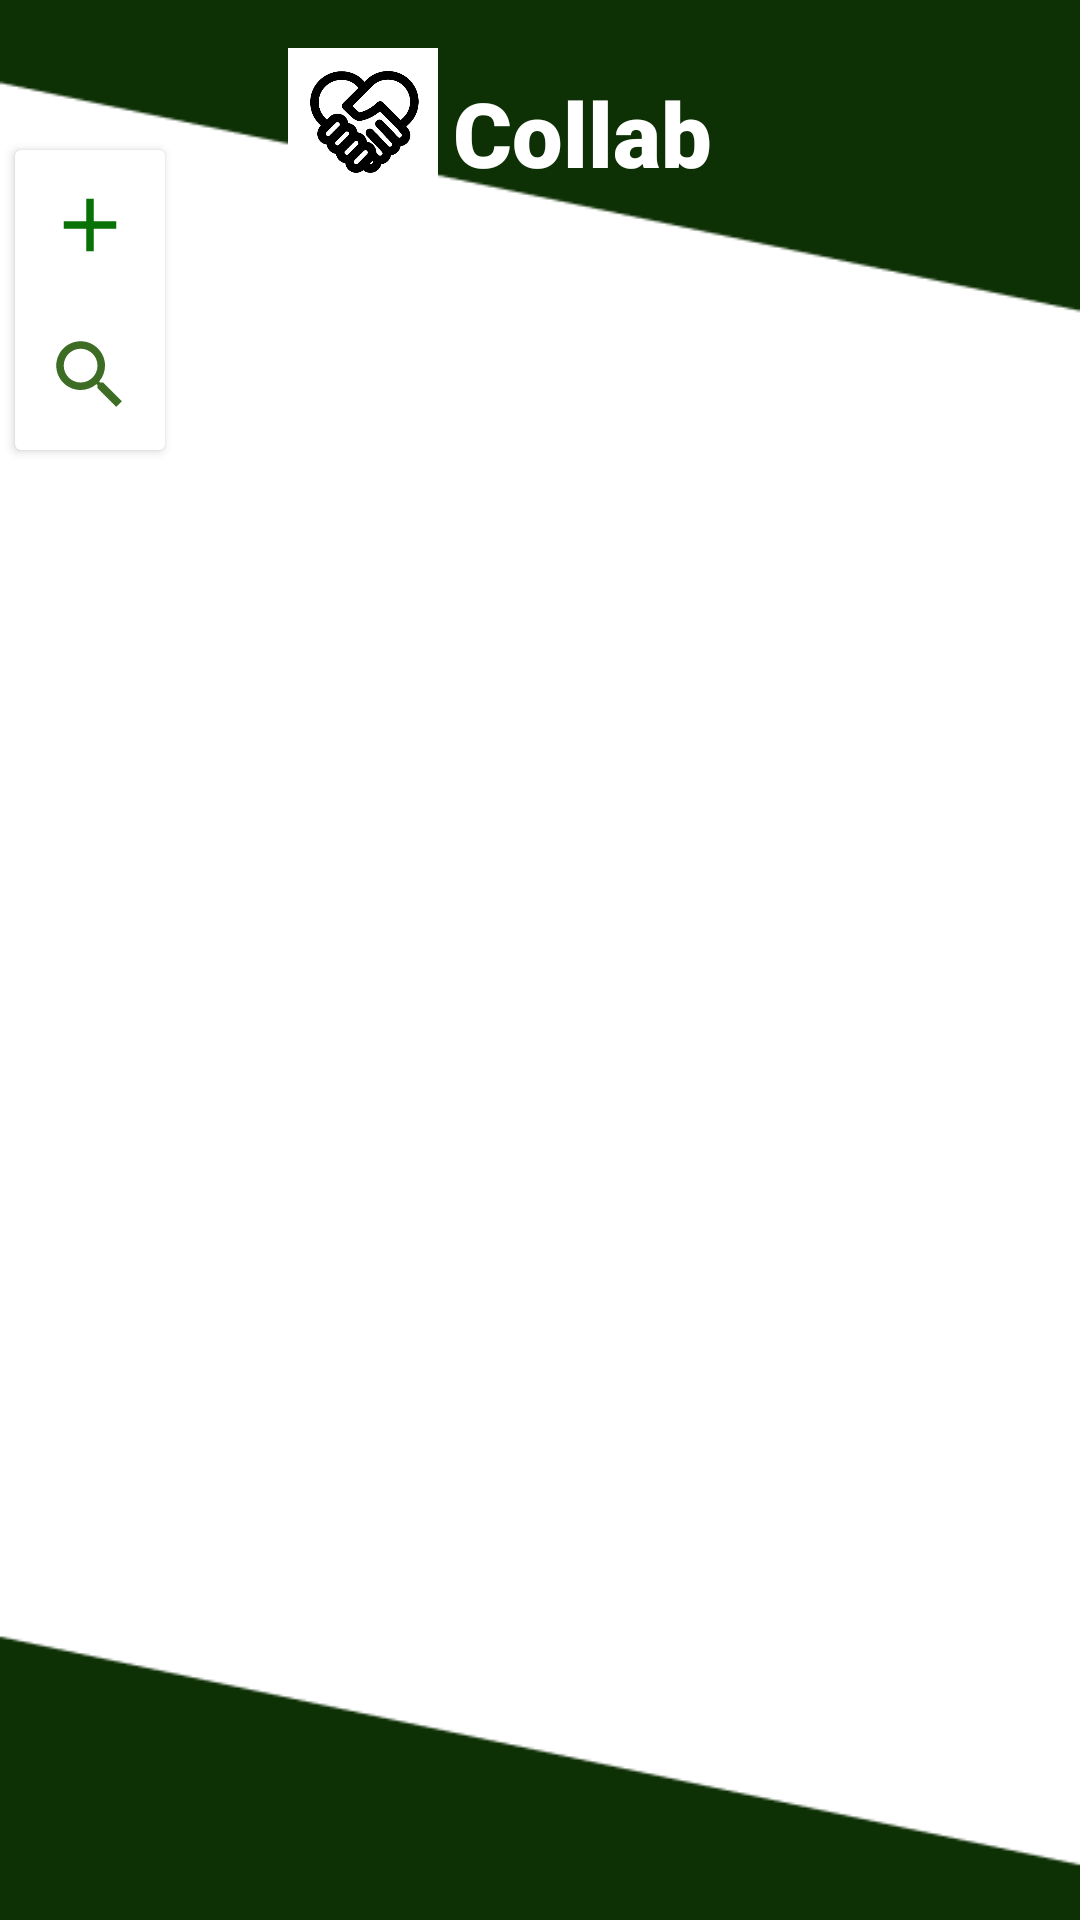

Named icons in this screenshot (1080×1920) and their bounding boxes, (x1, y1, x2, y2):
add: (63, 198, 117, 252)
search: (56, 341, 122, 407)
